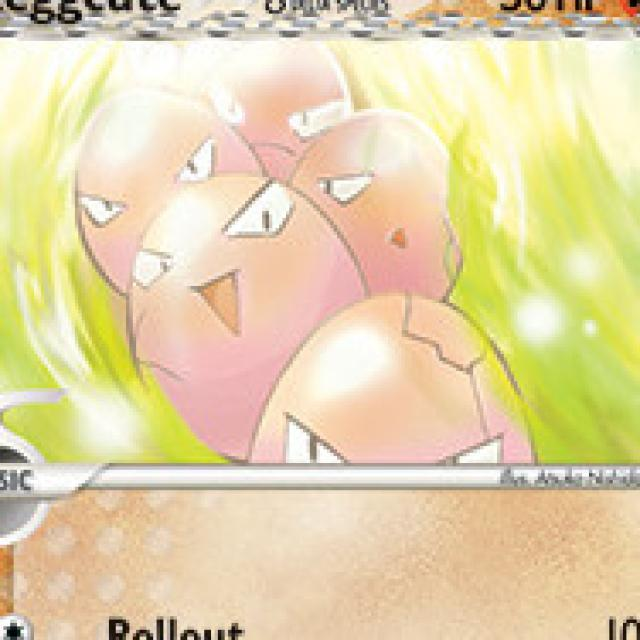Exeggcute: (73, 39, 540, 469)
